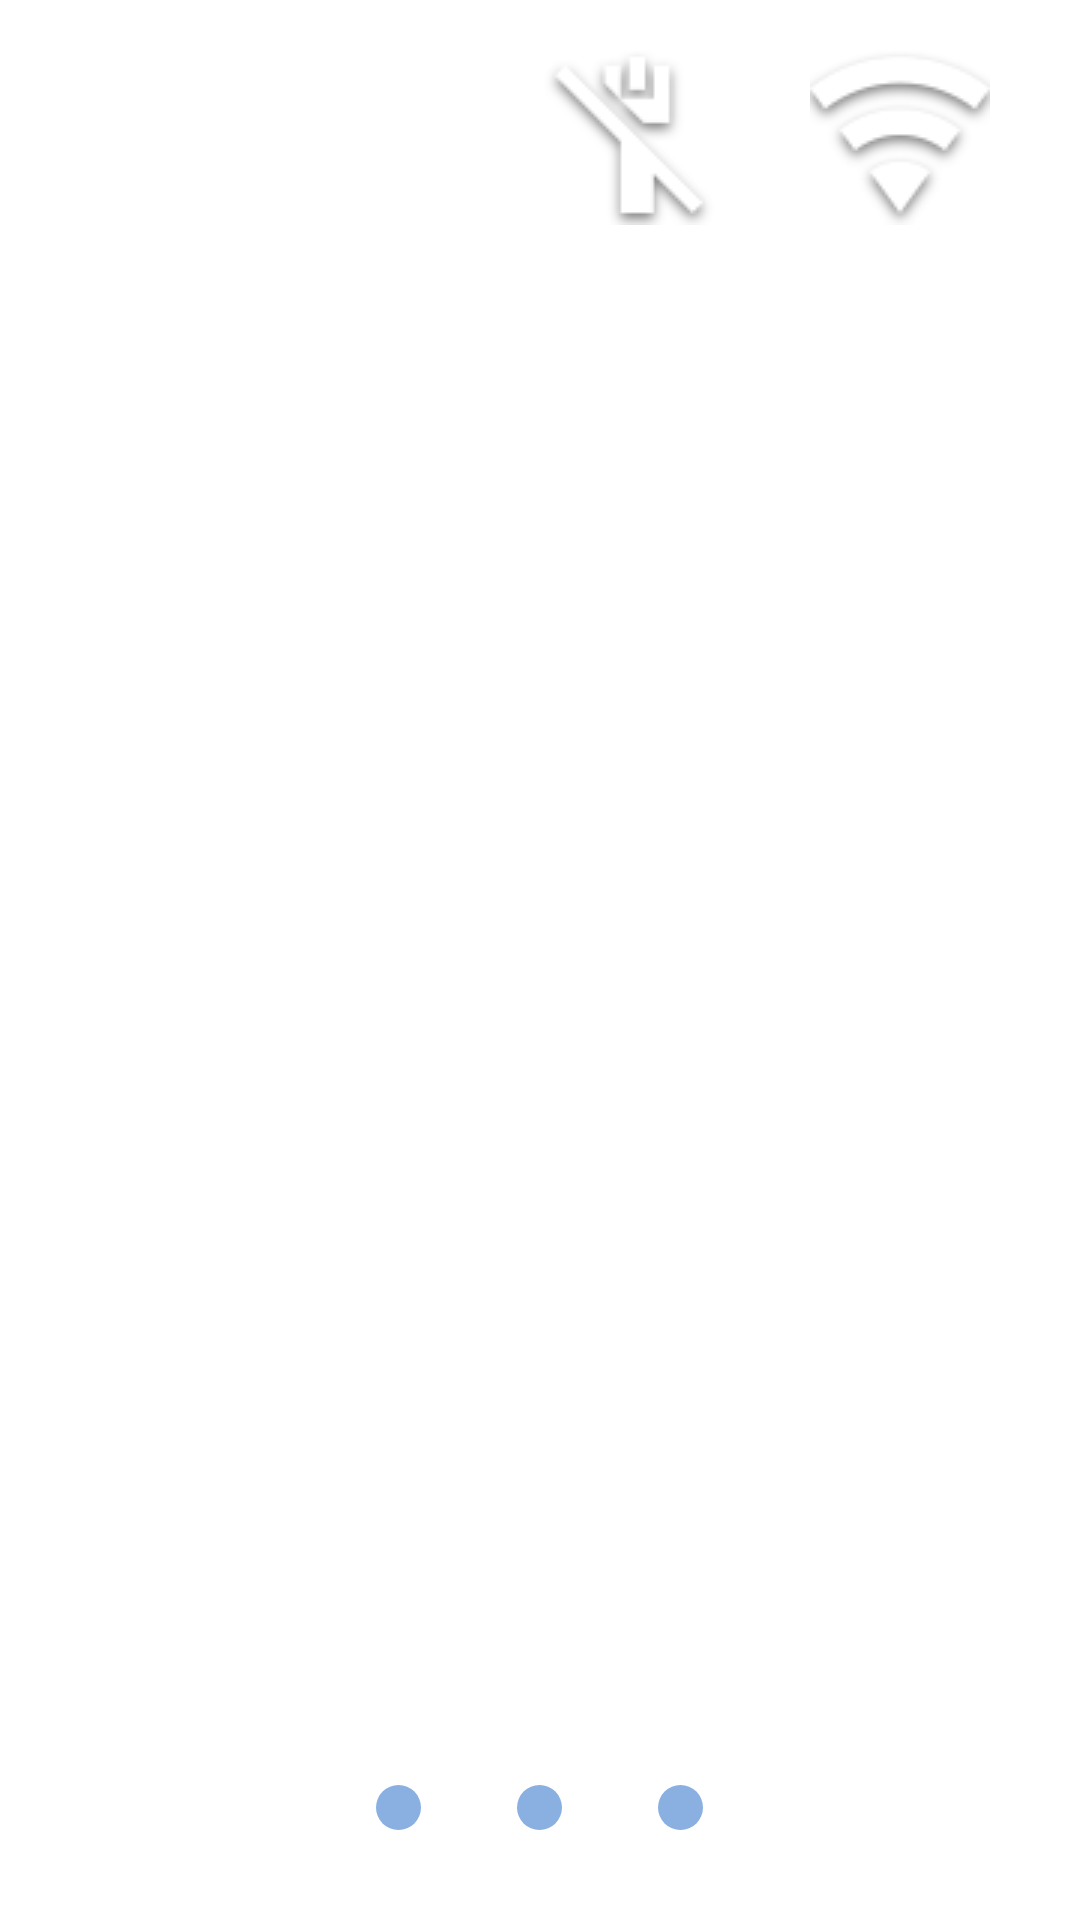

Where to tap for icons on this 1080w x 1920h app screen, as point (x, y):
cabe disable: point (629, 143)
wifi eable: point (900, 150)
